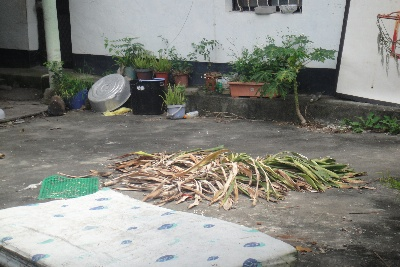bottle: (183, 110, 200, 119)
bowl: (87, 73, 131, 112), (168, 104, 185, 119)
bucket: (131, 78, 166, 115)
